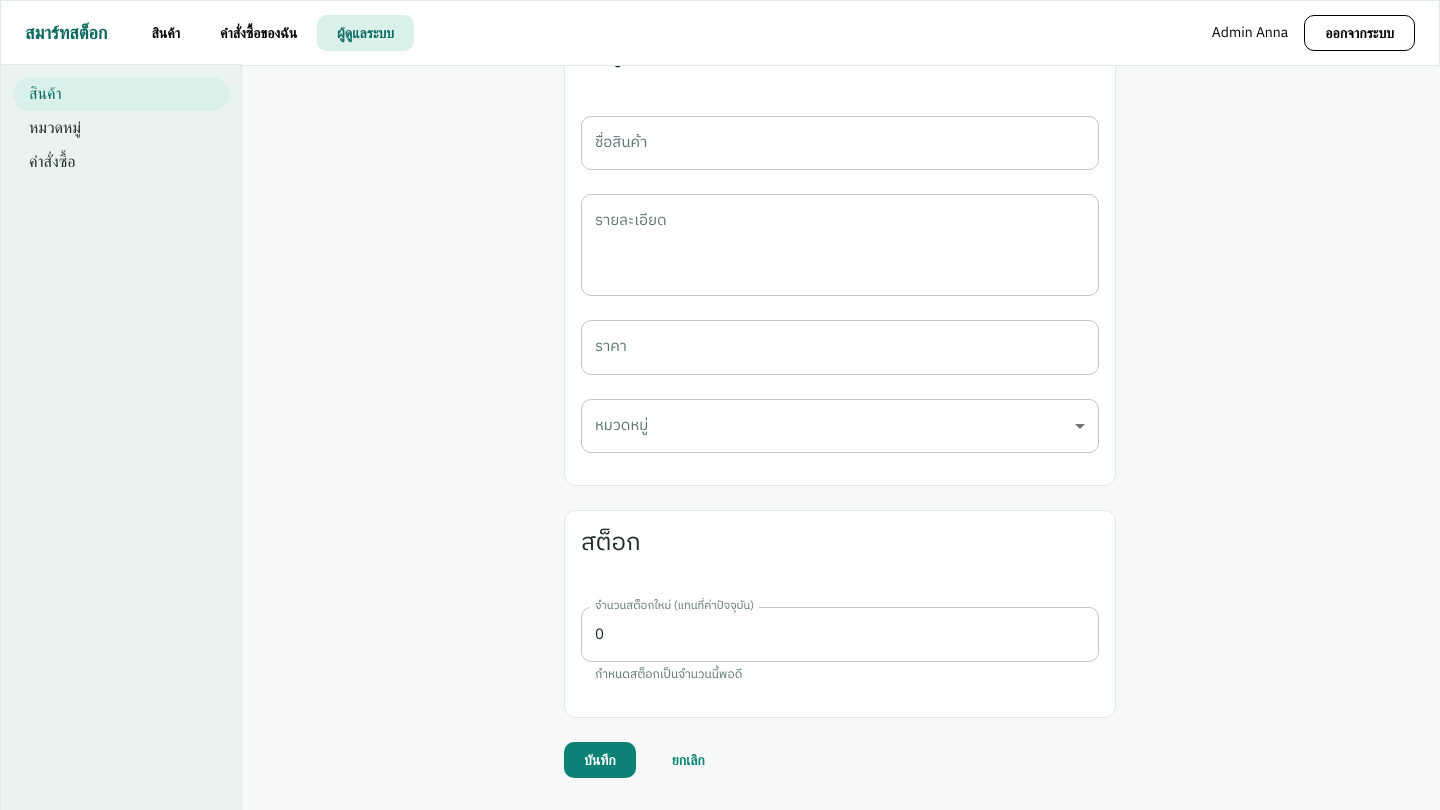
Scenario: shows validation messages on the client
(page scrolled)
Click the button "บันทึก". click: (600, 760)
box: [564,742,636,778]
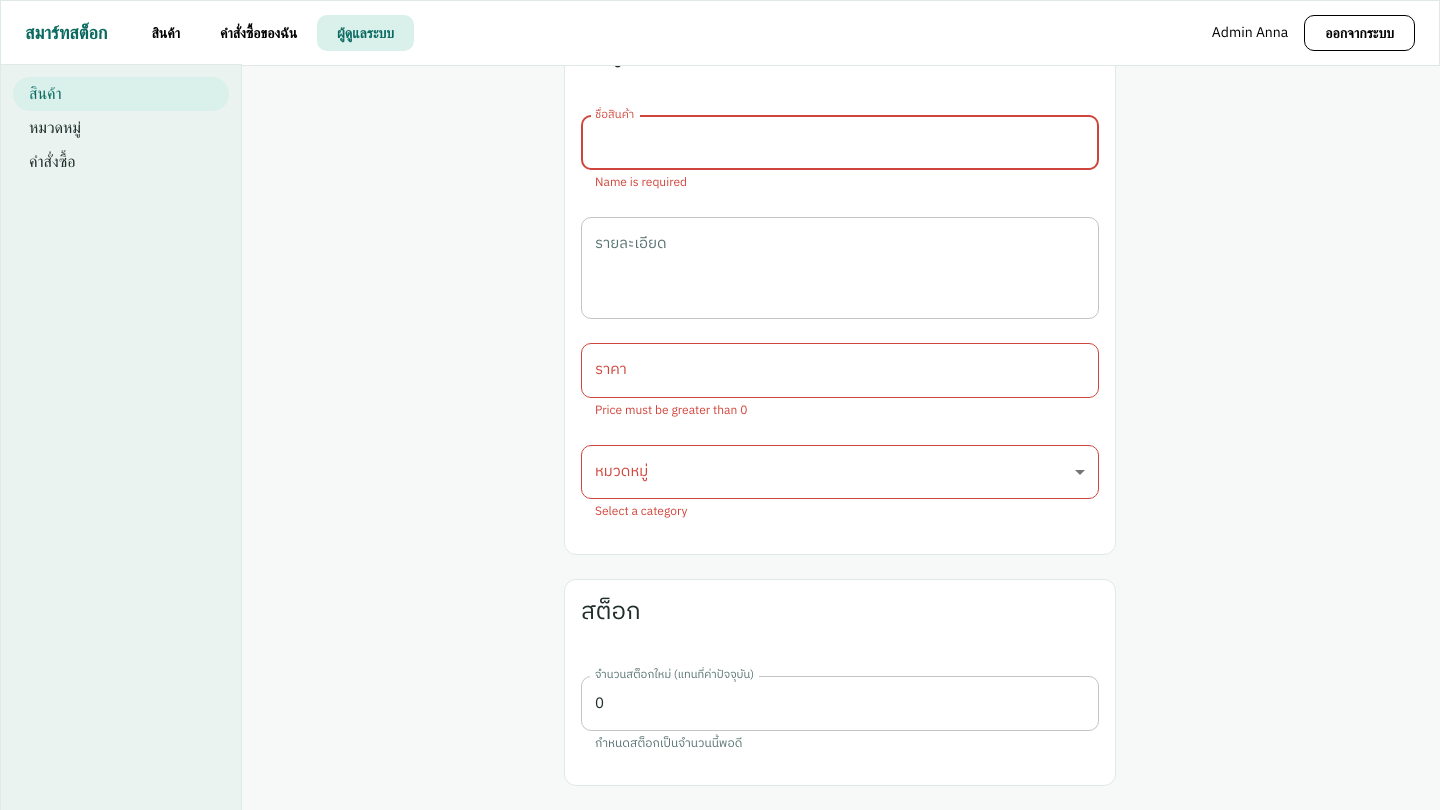
Expected: the text "Name is required" is shown, [595,173,687,192]
Expected: the text "Price must be greater than 0" is shown, [595,401,747,420]
Expected: the text "Select a category" is shown, [595,502,687,521]
